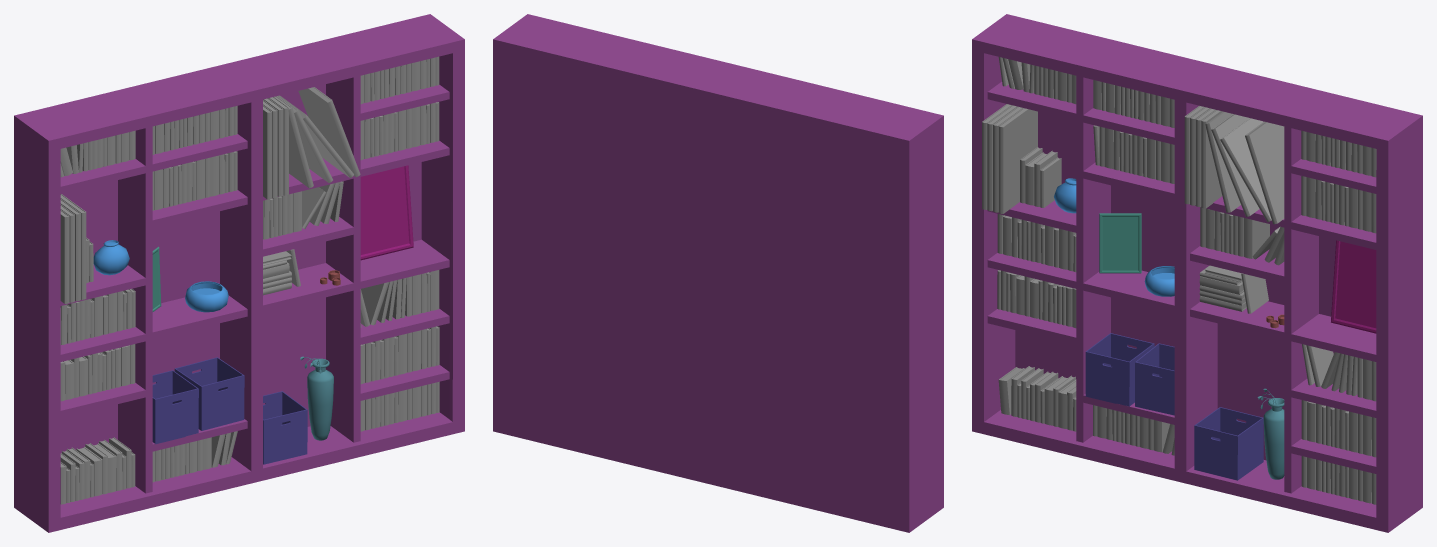
File: bibliotheque-couloir.FBX
3 renders of one model, left to right at view 1: azimuth 30°, elevation 25°; view 2: azimuth 150°, elevation 25°; view 3: azimuth 330°, elevation 25°, orthographic.
Visible parts, largest first — view 1: bibliotheque-couloir, tableau01, boite002, boite01, boite003, livre221, plante, Sphere002, livre218, Sphere001, livre219, livre214 (+11 smaller); view 2: bibliotheque-couloir; view 3: bibliotheque-couloir, boite003, tableau01, boite01, livre161, livre221, tableau002, boite002, livre220, plante, livre219, livre217 (+14 smaller).
Part boxes in pixels (x1,y1,x2,y2): bibliotheque-couloir: (14, 14, 464, 532); tableau01: (360, 165, 413, 260); boite002: (174, 357, 244, 430); boite01: (152, 370, 198, 444); boite003: (263, 391, 307, 464); livre221: (298, 87, 360, 177); plante: (300, 356, 333, 440); Sphere002: (185, 281, 228, 312); livre218: (274, 96, 313, 188); Sphere001: (93, 240, 129, 275); livre219: (277, 95, 332, 182); livre214: (263, 105, 272, 199); bibliotheque-couloir: (493, 14, 943, 532); bibliotheque-couloir: (972, 14, 1422, 532); boite003: (1194, 407, 1263, 480); tableau01: (1331, 240, 1376, 333); boite01: (1085, 333, 1154, 406); livre161: (998, 108, 1037, 213); livre221: (1245, 121, 1284, 224); tableau002: (1099, 213, 1141, 273); boite002: (1135, 343, 1174, 415); livre220: (1220, 118, 1271, 222); plante: (1257, 388, 1284, 479); livre219: (1211, 114, 1259, 216); livre217: (1201, 110, 1222, 208).
Bounding box in the file's own units: 20 × 18 × 3.17.
